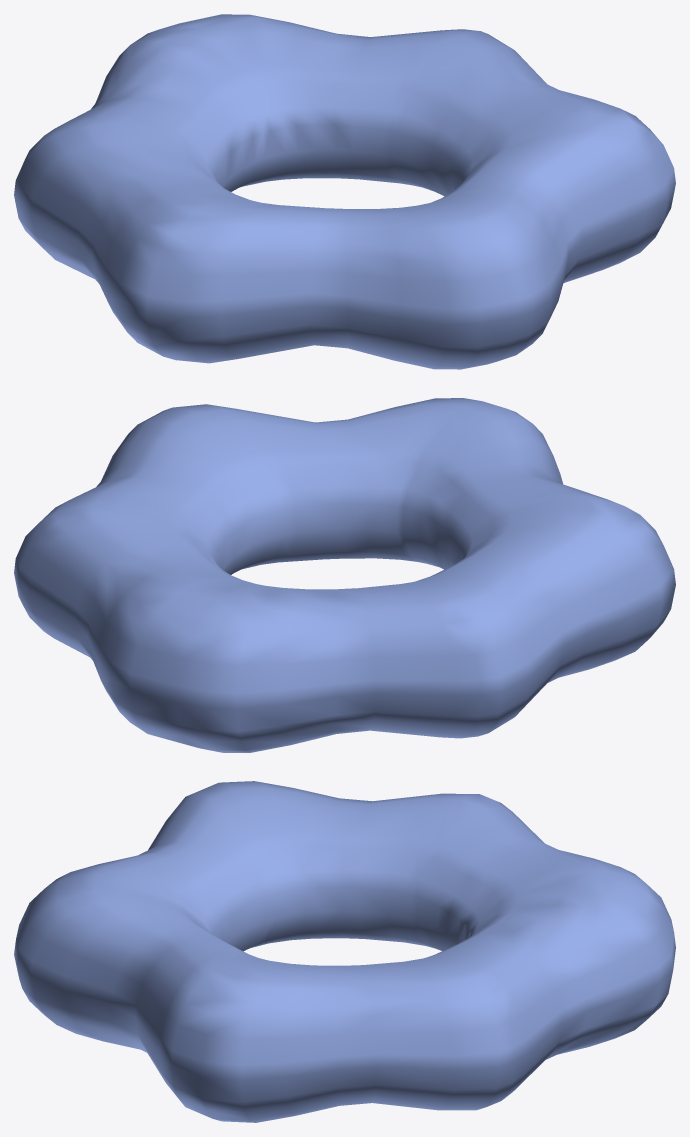
The model's file is SwimRing3.fbx.
The picture shows the model from 3 angles, top to bottom: view 1: azimuth 30°, elevation 25°; view 2: azimuth 150°, elevation 25°; view 3: azimuth 270°, elevation 25°; orthographic projection. The views are drawn at different scales.
Parts seen in each view (by area): view 1: AM94_026_obj_0003; view 2: AM94_026_obj_0003; view 3: AM94_026_obj_0003.
Boxes of the visible parts, x1,y1,x2,y2 form: AM94_026_obj_0003: (14, 14, 675, 369); AM94_026_obj_0003: (14, 398, 675, 752); AM94_026_obj_0003: (14, 781, 675, 1122).
Bounding box in the file's own units: 59.16 × 14.83 × 64.57.
